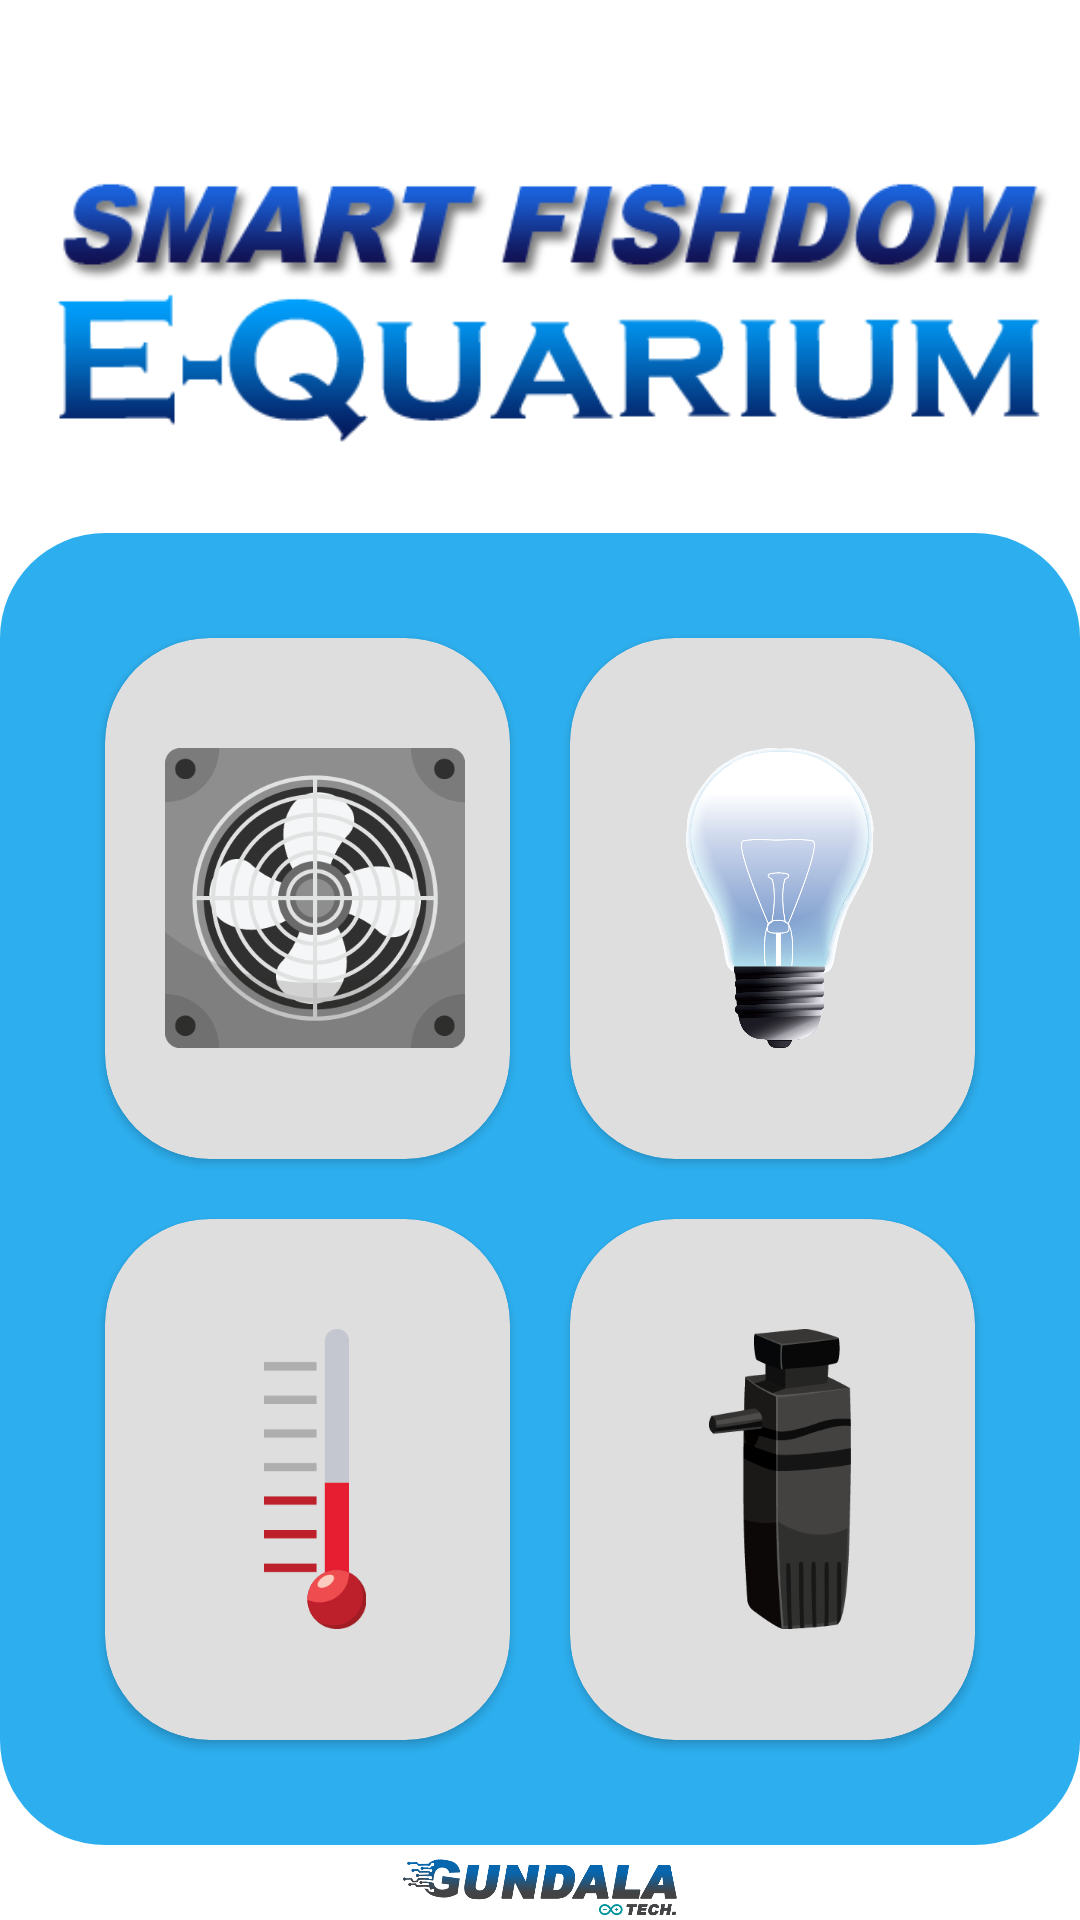

Icons on this 1080px x 1920px Android screen, each with the point to tap as point (x, y):
kipasoff: point (315, 898)
lampuoff: point (779, 898)
pompa: point (780, 1479)
termometer: point (315, 1479)
